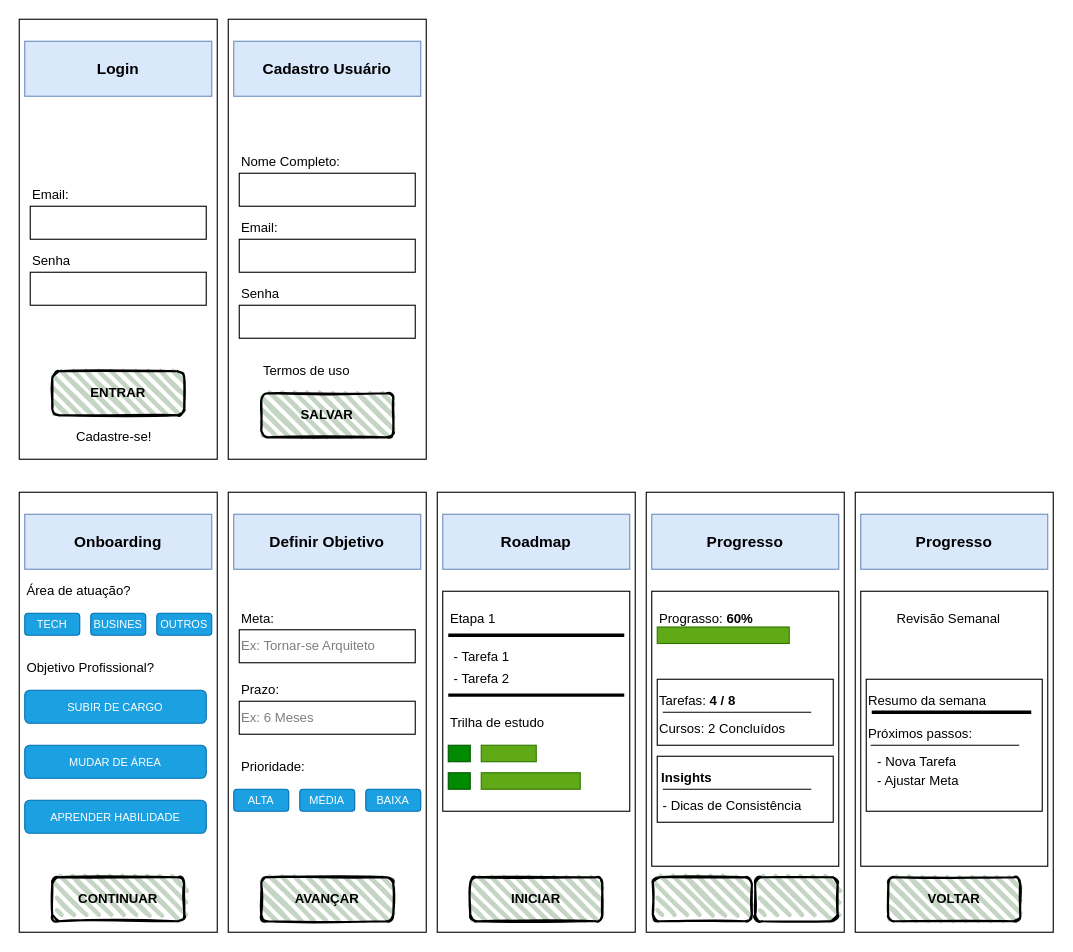
Some shapes in this 1073 by 952 pixel diagram are drawn without their labels. Here are the shapes that lost their labels. From the top down, the centre of each, then its label:
pixel 701 899: MARCAR CONCLUÍDO
pixel 796 899: RELATÓRIO
